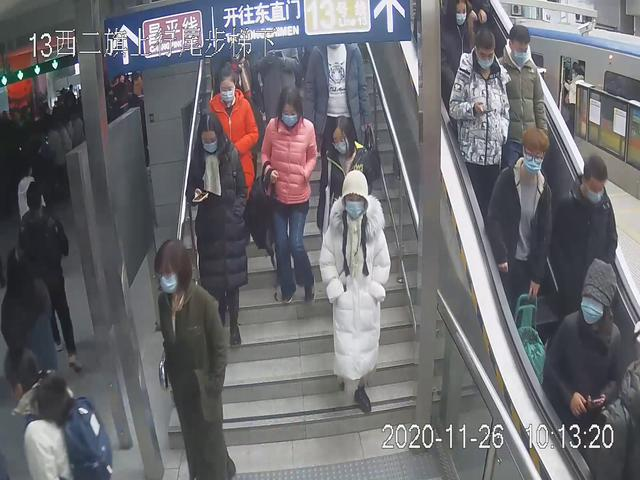person: (154, 236, 239, 480), (319, 168, 393, 415), (542, 252, 625, 470), (486, 121, 554, 347), (186, 113, 249, 350), (262, 86, 322, 316), (552, 152, 618, 354), (449, 25, 511, 232), (206, 60, 255, 288), (490, 24, 555, 195)
